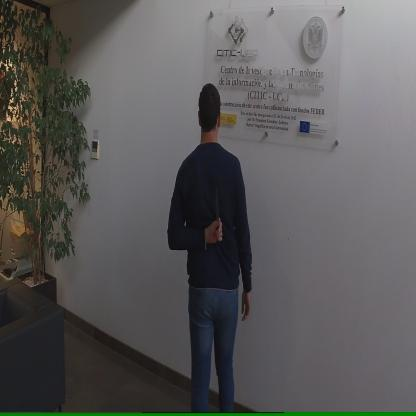knife: (212, 184, 224, 245)
